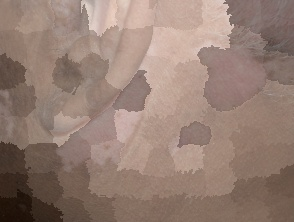vitiligo: (0, 0, 294, 218)
